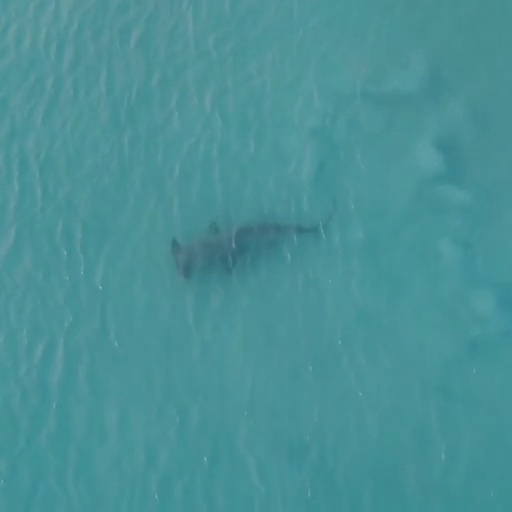shark: (168, 197, 338, 281)
